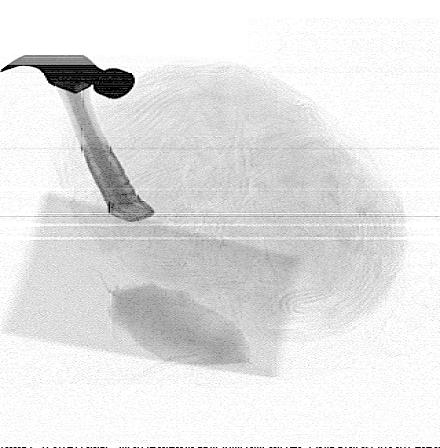Hammer: (0, 53, 155, 223)
